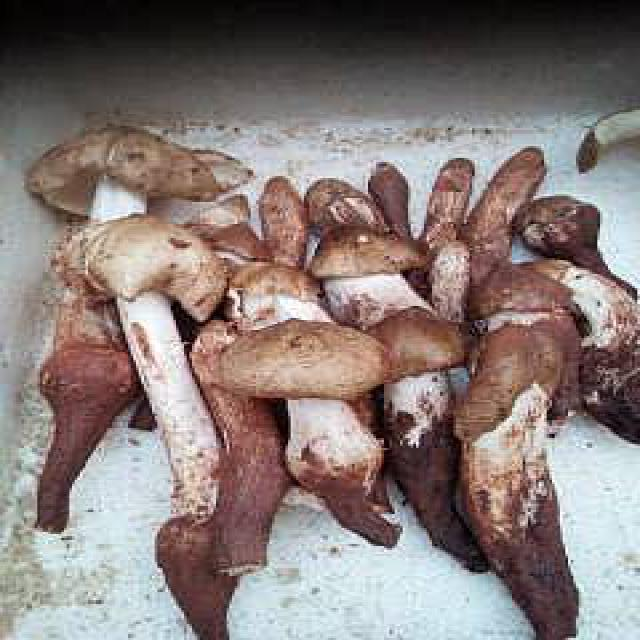Collybia albuminosa: (52, 216, 227, 640), (462, 326, 585, 634), (210, 319, 381, 510), (368, 312, 478, 568), (28, 128, 215, 219), (515, 198, 639, 299), (317, 228, 422, 315), (481, 145, 548, 260), (218, 259, 320, 317), (479, 269, 571, 328), (260, 173, 307, 266), (365, 163, 410, 238), (431, 159, 474, 229)
